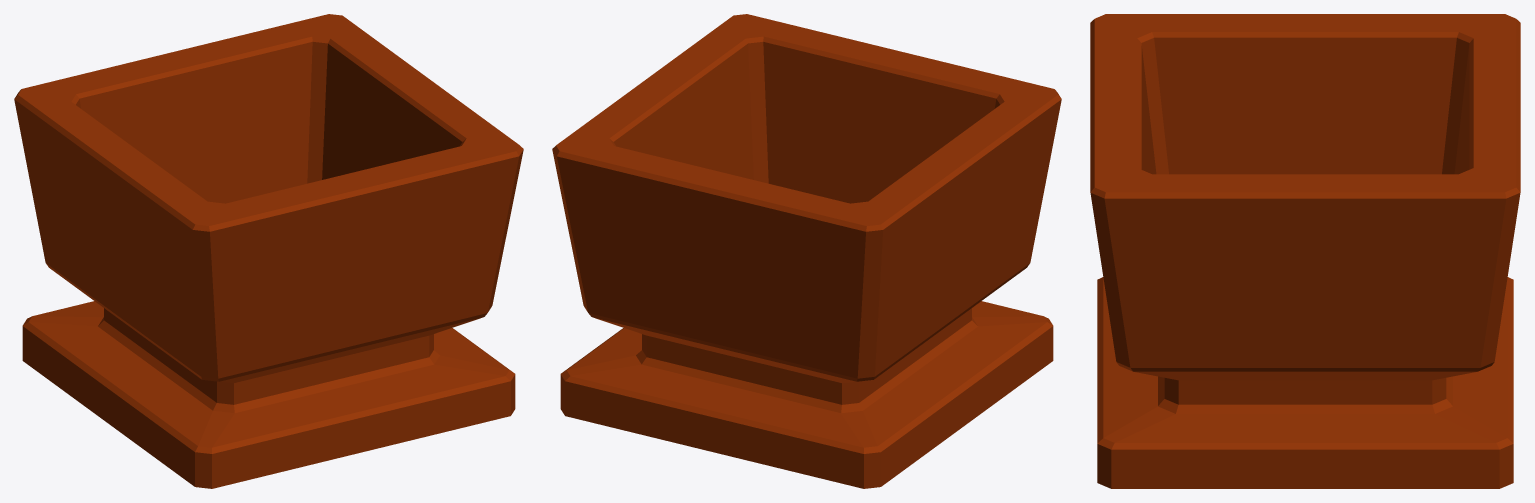
File: Small_FirePit.fbx
3 views of the same model, side by side, from view 1: azimuth 30°, elevation 25°; view 2: azimuth 150°, elevation 25°; view 3: azimuth 270°, elevation 25° (orthographic). The views are drawn at different scales.
Visible parts, largest first — view 1: Small_FirePit; view 2: Small_FirePit; view 3: Small_FirePit.
Part boxes in pixels (left/top/right/bottom): Small_FirePit: left=14, top=14, right=523, bottom=488; Small_FirePit: left=552, top=14, right=1061, bottom=488; Small_FirePit: left=1090, top=14, right=1520, bottom=488.
Size of the model in its own units: 0.3277 by 0.2504 by 0.3277.
